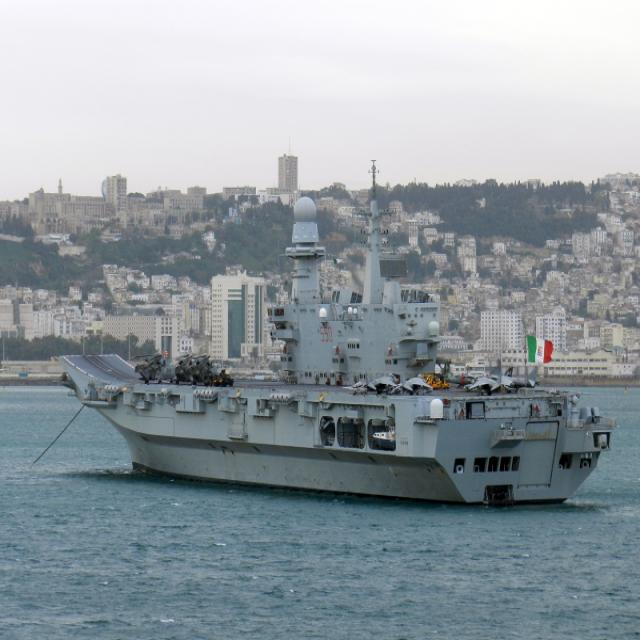Portanaves: (47, 151, 616, 513)
